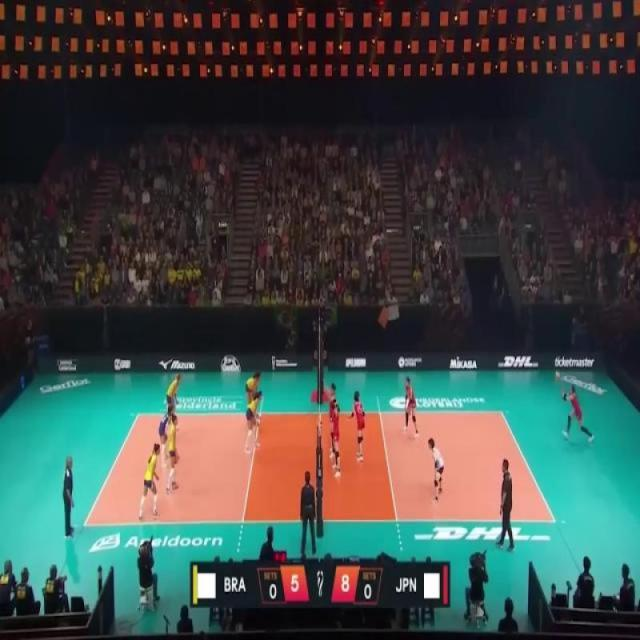volleyball: (555, 371, 561, 381)
